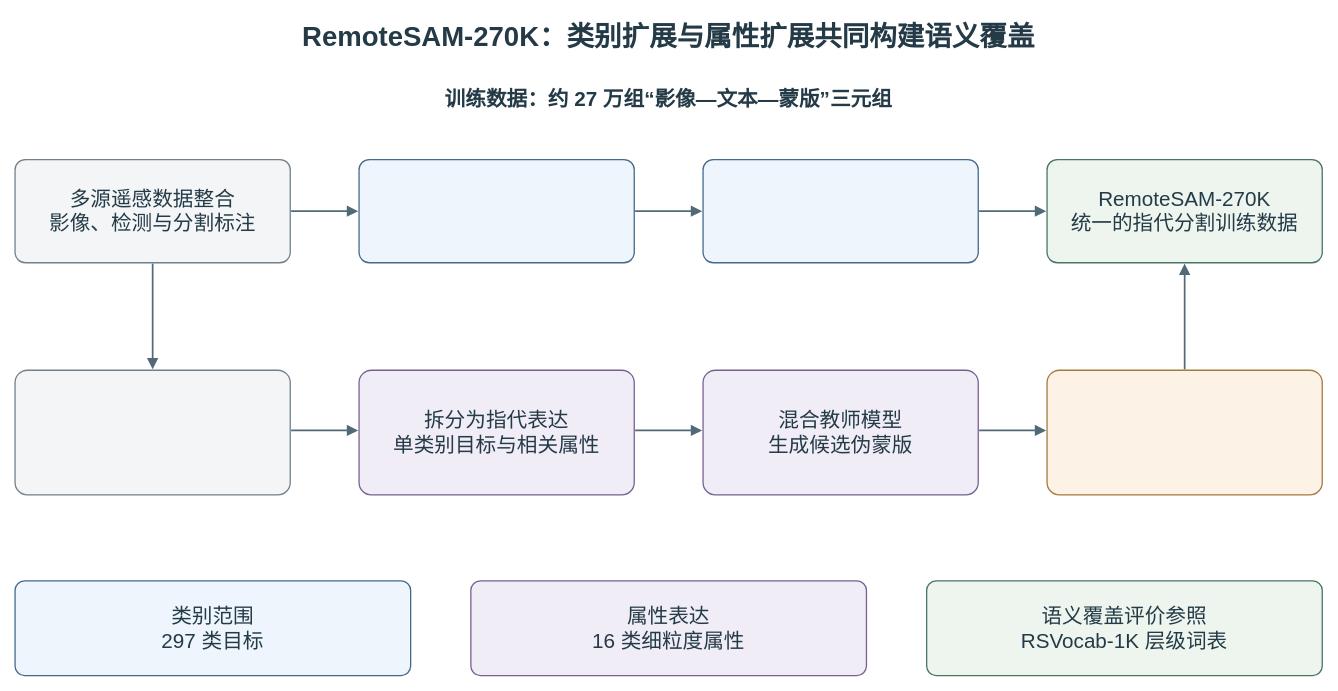
The diagram is 1338 pixels wide and 691 high, and some of its shapes have lost their labels. Each missing label, with the centre of its shape:
"SigLIP2 语义相似度筛选 迭代保留高质量样本" belongs at [1184,432].
"局部影像与详细描述 Qwen2-VL 生成属性信息" belongs at [152,432].
"广义指代表达配对 单目标 · 多目标 · 无目标" belongs at [840,210].
"统一标注格式 检测标注转换为蒙版" belongs at [496,210].
